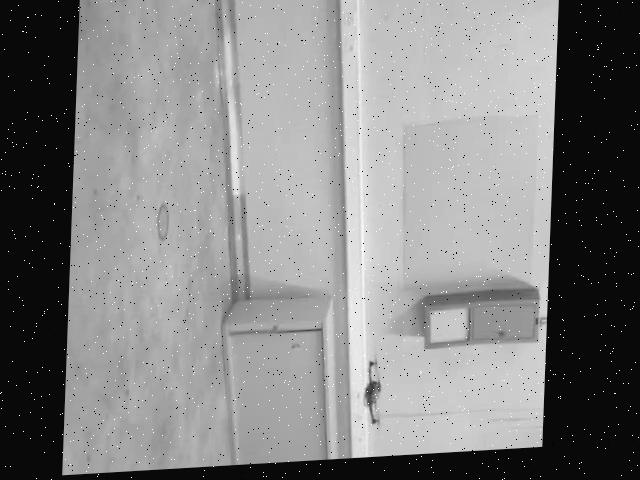drone: (362, 357, 390, 437)
